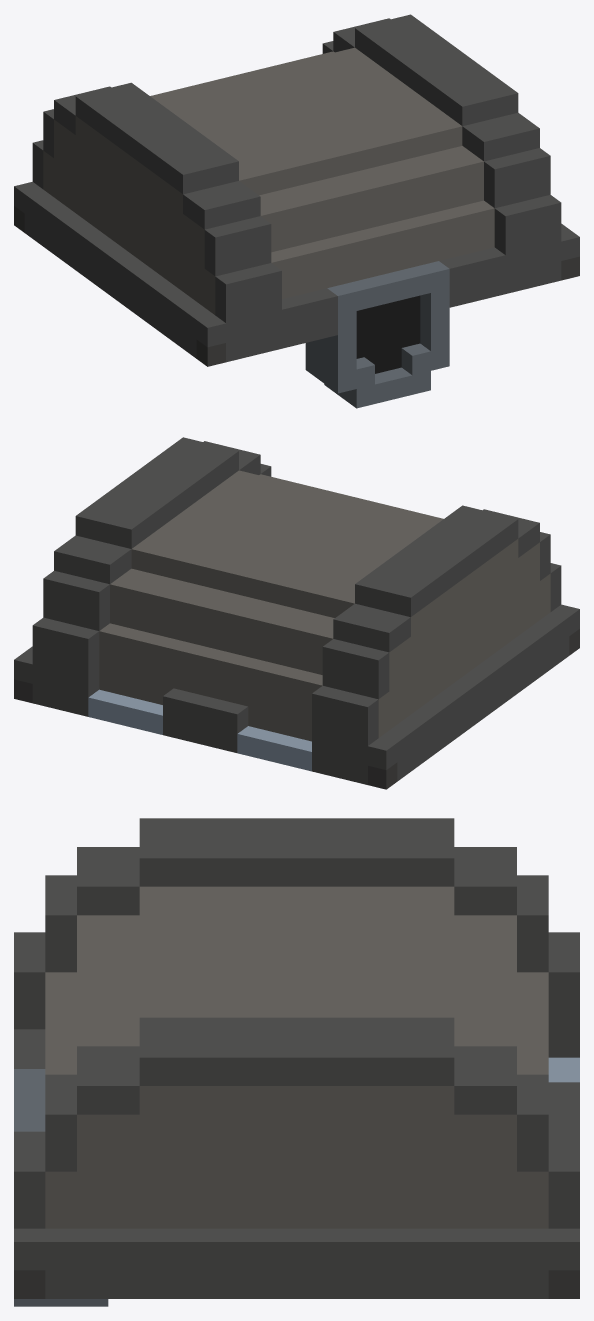
Rendered from lid.obj.
The picture shows the model from 3 angles, top to bottom: view 1: azimuth 30°, elevation 25°; view 2: azimuth 150°, elevation 25°; view 3: azimuth 270°, elevation 25°; orthographic projection. The views are drawn at different scales.
Bounding box in the file's own units: 20 × 12 × 18.
Materials: 1 (1 with a texture image).
